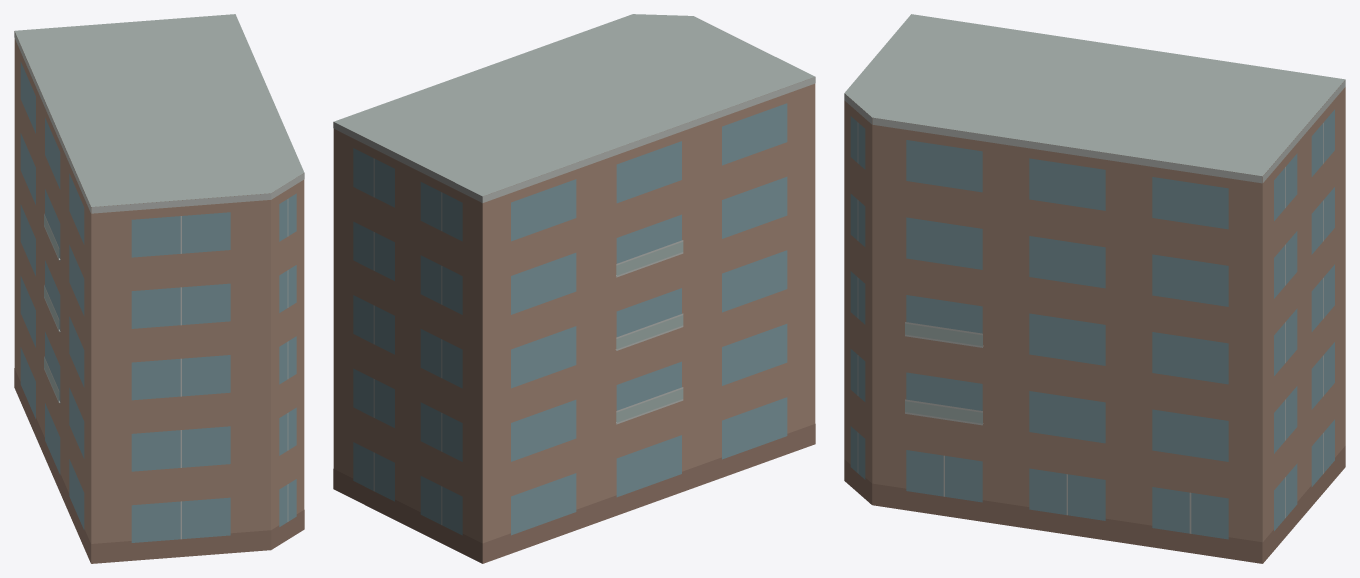
The model's file is survey-upis-32884964.glb.
3 views of the same model, side by side, from view 1: azimuth 30°, elevation 25°; view 2: azimuth 150°, elevation 25°; view 3: azimuth 270°, elevation 25° (orthographic). The views are drawn at different scales.
Parts seen in each view (by area): view 1: survey-upis-32884964.tmp; view 2: survey-upis-32884964.tmp; view 3: survey-upis-32884964.tmp.
Boxes of the visible parts, x1,y1,x2,y2 form: survey-upis-32884964.tmp: (14, 14, 304, 563); survey-upis-32884964.tmp: (333, 14, 815, 563); survey-upis-32884964.tmp: (844, 14, 1345, 563).
Bounding box in the file's own units: 11.86 × 13.2 × 15.48.
